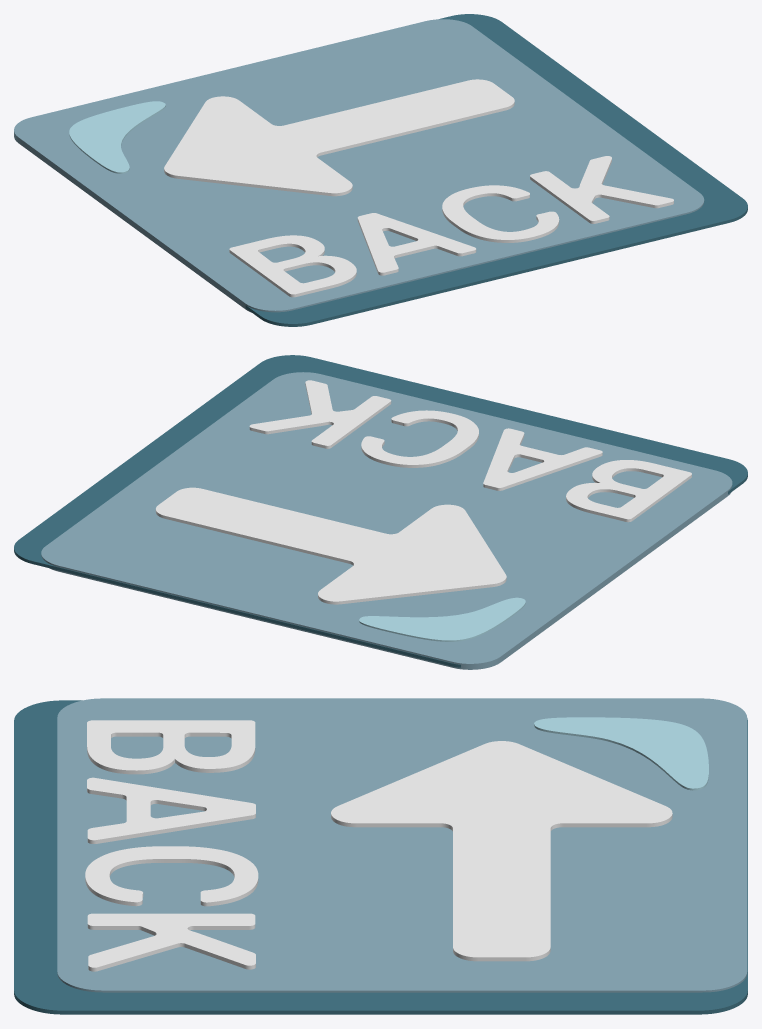
Rendered from emoji_u1f519.glb.
3 renders of one model, top to bottom at view 1: azimuth 30°, elevation 25°; view 2: azimuth 150°, elevation 25°; view 3: azimuth 270°, elevation 25°, orthographic. The views are drawn at different scales.
Parts seen in each view (by area): view 1: emoji_u1f519; view 2: emoji_u1f519; view 3: emoji_u1f519.
Boxes of the visible parts, <box> form: emoji_u1f519: <box>14,14,747,326</box>; emoji_u1f519: <box>14,355,747,669</box>; emoji_u1f519: <box>14,698,747,1014</box>.
Bounding box in the file's own units: 0.0339 × 0.0008 × 0.0339.
